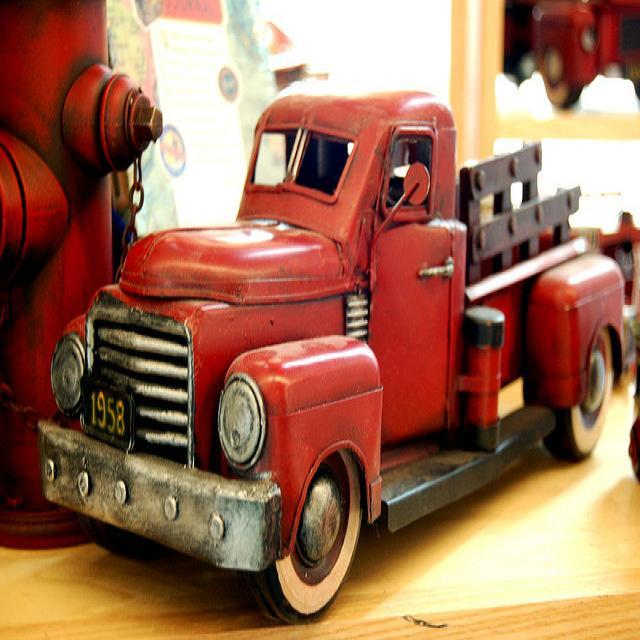fire_hydrant: (0, 0, 164, 542)
